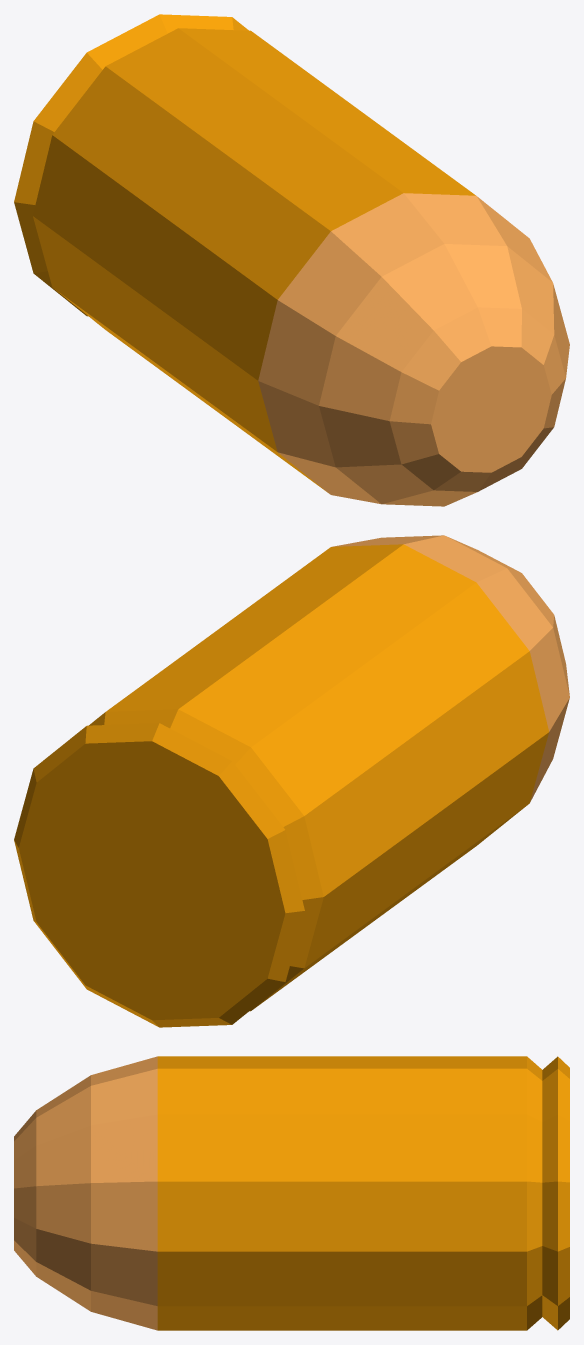
The model's file is Bullet.fbx.
The picture shows the model from 3 angles, top to bottom: view 1: azimuth 30°, elevation 25°; view 2: azimuth 150°, elevation 25°; view 3: azimuth 270°, elevation 25°; orthographic projection. The views are drawn at different scales.
Visible parts, largest first — view 1: Bullet; view 2: Bullet; view 3: Bullet.
Boxes of the visible parts, x1,y1,x2,y2 form: Bullet: [14, 14, 569, 506]; Bullet: [14, 535, 569, 1027]; Bullet: [14, 1056, 569, 1330].
Bounding box in the file's own units: 0.6755 × 0.6755 × 1.36.
